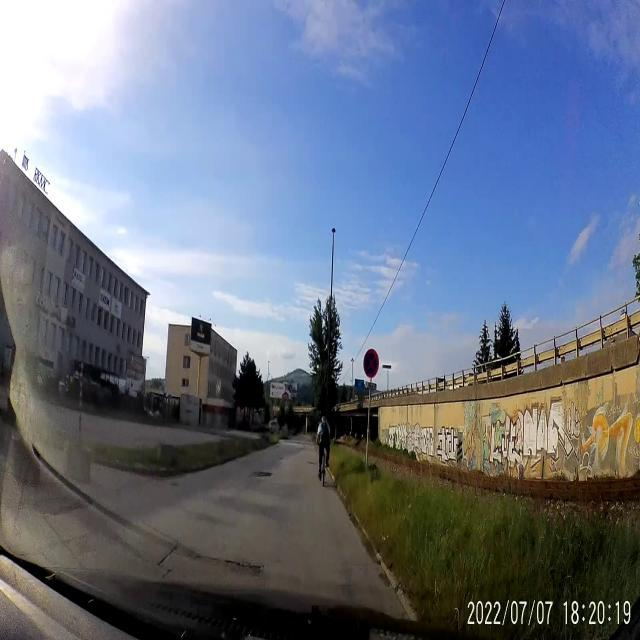Pothole: (223, 553, 270, 585), (250, 466, 272, 486), (378, 570, 392, 592)
